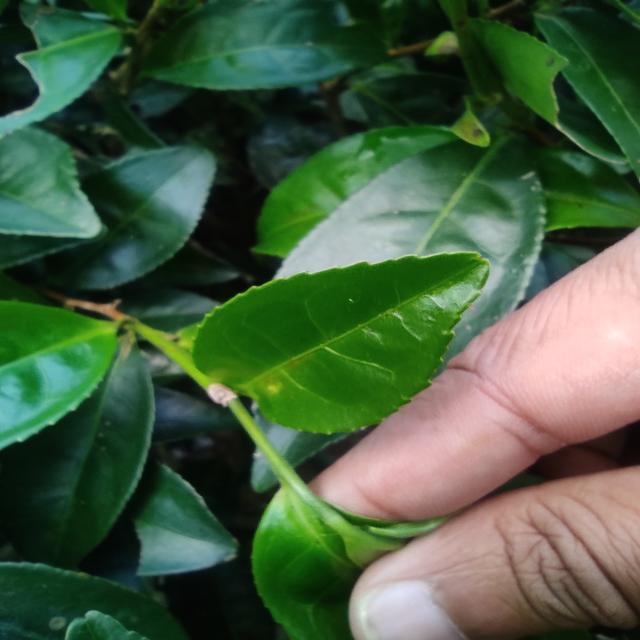Category C 4-7 days: (116, 213, 527, 439)
